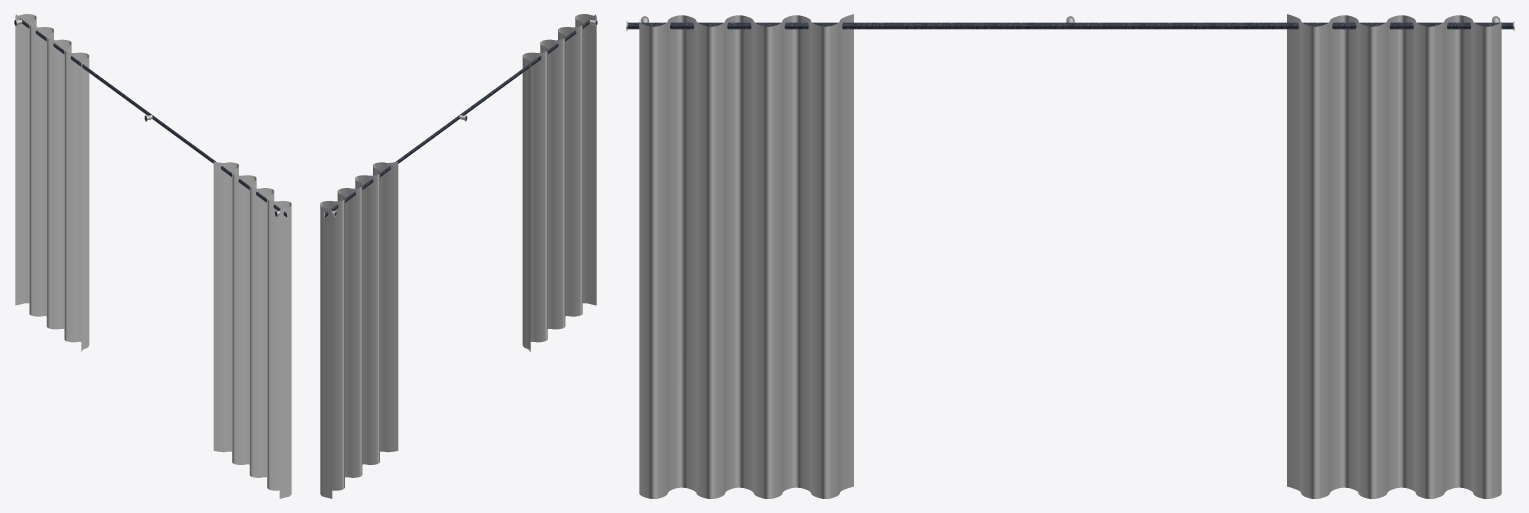
Rendered from 6k_white_curtains.fbx.
3 renders of one model, left to right at view 1: azimuth 30°, elevation 25°; view 2: azimuth 150°, elevation 25°; view 3: azimuth 270°, elevation 25°, orthographic. The views are drawn at different scales.
Parts seen in each view (by area): view 1: Curtain__2_1, Curtain__2_2, Group2; view 2: Curtain__2_2, Curtain__2_1, Group2; view 3: Curtain__2_1, Curtain__2_2, Group2.
Part boxes in pixels (left/top/right/bottom): Curtain__2_1: left=213, top=161, right=291, bottom=498; Curtain__2_2: left=15, top=14, right=89, bottom=351; Group2: left=14, top=14, right=289, bottom=219; Curtain__2_2: left=320, top=161, right=398, bottom=498; Curtain__2_1: left=522, top=14, right=596, bottom=351; Group2: left=322, top=14, right=597, bottom=219; Curtain__2_1: left=639, top=14, right=853, bottom=498; Curtain__2_2: left=1287, top=14, right=1501, bottom=498; Group2: left=626, top=16, right=1514, bottom=30.
Bounding box in the file's own units: 4.31 × 68.7 × 117.
